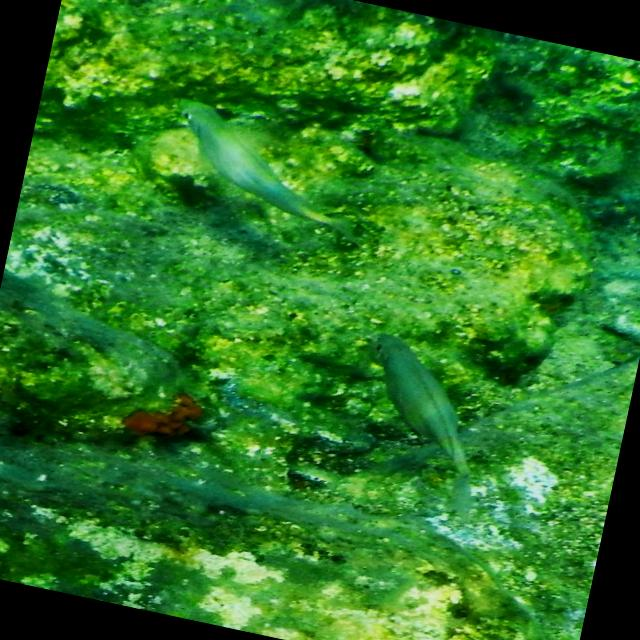Sokar Baligi: (144, 84, 404, 262), (318, 313, 528, 500)
